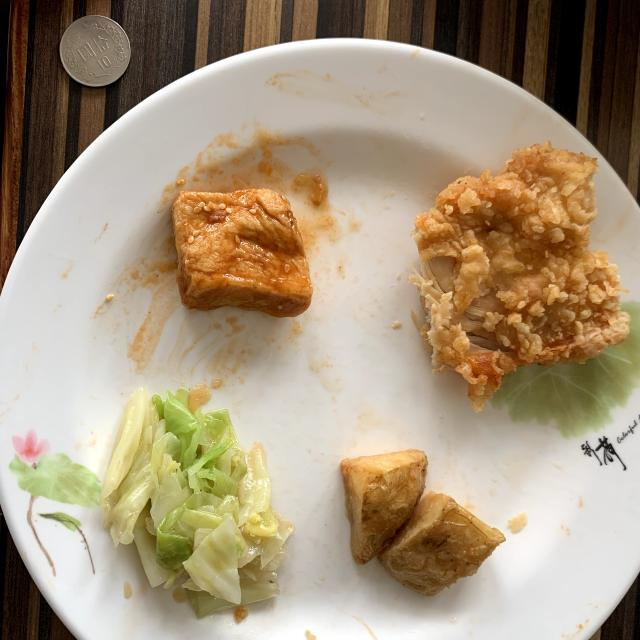cabbage: (99, 389, 294, 618)
coin: (60, 15, 131, 86)
creamy tofu: (172, 189, 312, 318)
fried chicken cutlet: (410, 142, 630, 410)
fried potato: (340, 450, 505, 595)
